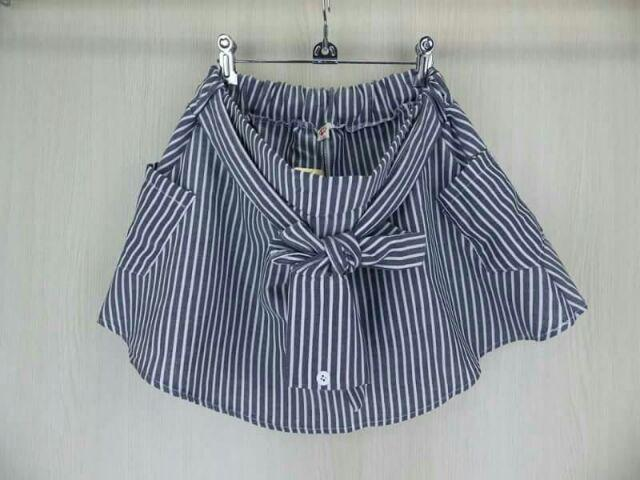Skirts: (96, 67, 585, 434)
